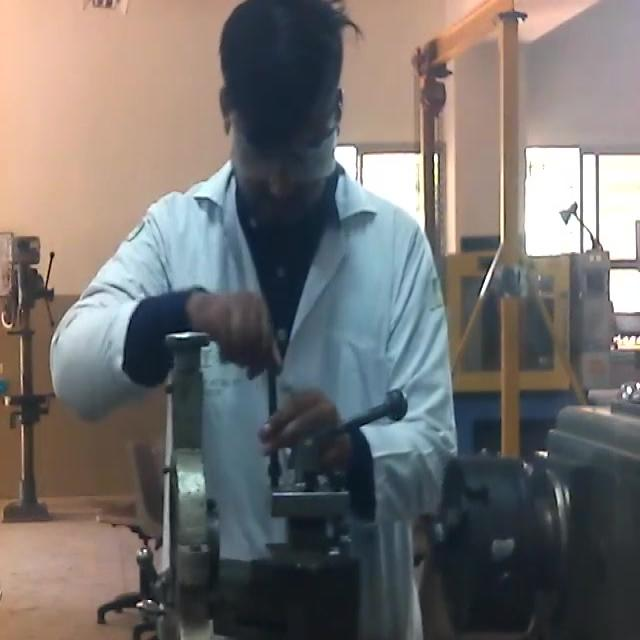googles: (233, 140, 335, 190)
labcoat: (52, 154, 457, 640)
